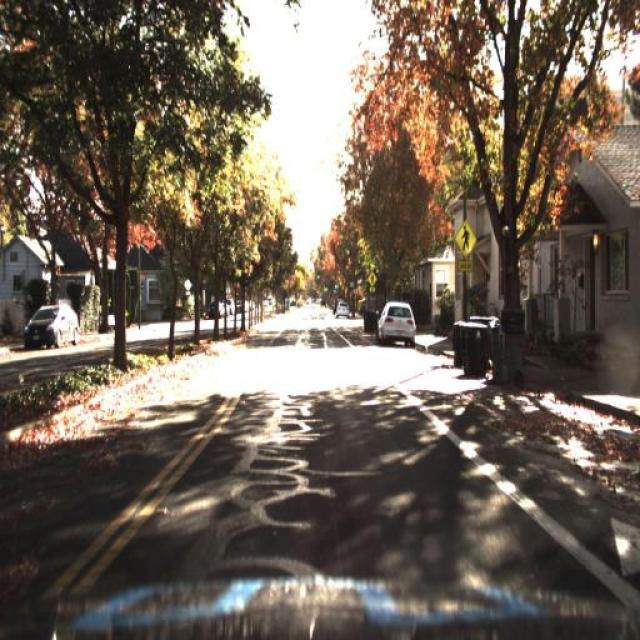car: (22, 302, 82, 349), (374, 293, 421, 346), (332, 298, 352, 322)
